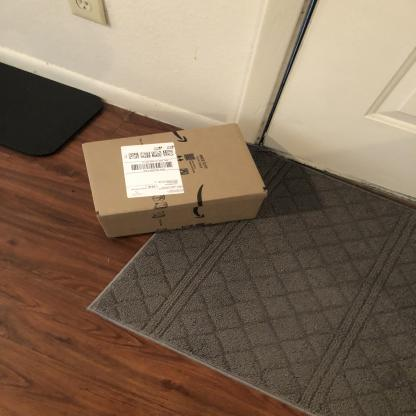package: (76, 120, 277, 247)
